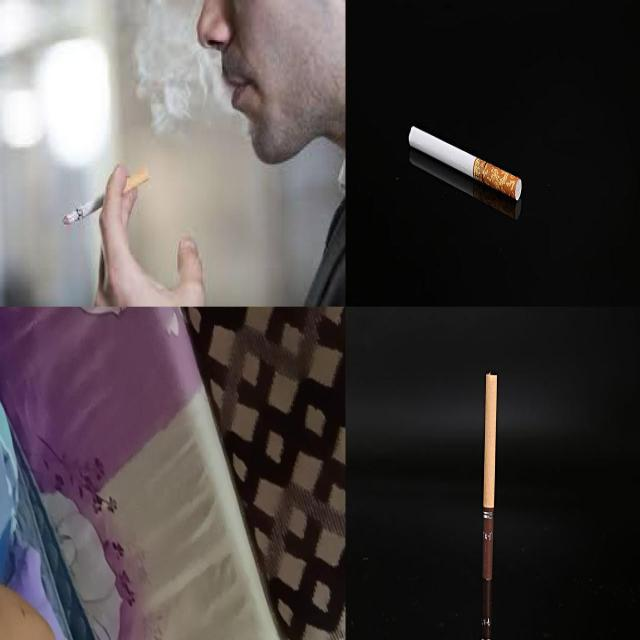smoking: (408, 125, 522, 201), (62, 168, 152, 226), (478, 367, 502, 581)
